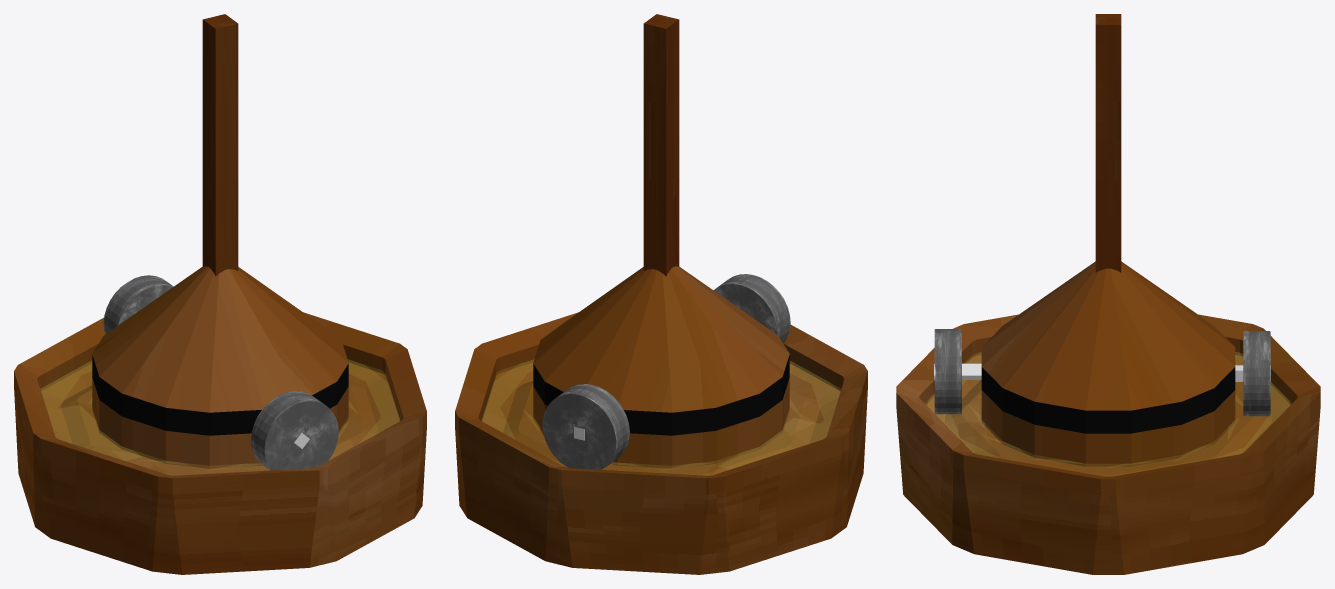
The model's file is RiceMill.glb.
3 renders of one model, left to right at view 1: azimuth 30°, elevation 25°; view 2: azimuth 150°, elevation 25°; view 3: azimuth 270°, elevation 25°, orthographic.
Visible parts, largest first — view 1: Cube, Cube.001, Cylinder, Plane.002, Cube.002; view 2: Cube, Cube.001, Cube.002, Plane.002, Cylinder; view 3: Cube, Cube.001, Cylinder, Cube.002, Plane.002.
Boxes of the visible parts, left/top/right/bottom form: Cube: left=14, top=266, right=426, bottom=574; Cube.001: left=202, top=14, right=238, bottom=276; Cylinder: left=251, top=391, right=338, bottom=470; Plane.002: left=41, top=360, right=399, bottom=474; Cube.002: left=103, top=275, right=173, bottom=334; Cube: left=455, top=266, right=867, bottom=574; Cube.001: left=643, top=14, right=679, bottom=276; Cube.002: left=542, top=384, right=629, bottom=469; Plane.002: left=482, top=360, right=840, bottom=470; Cylinder: left=713, top=274, right=790, bottom=343; Cube: left=896, top=261, right=1320, bottom=574; Cube.001: left=1095, top=14, right=1121, bottom=272; Cylinder: left=934, top=329, right=981, bottom=414; Cube.002: left=1235, top=331, right=1270, bottom=416; Plane.002: left=927, top=352, right=1289, bottom=468.
Bounding box in the file's own units: 2.48 × 3.02 × 2.48.
Materials: 5 (3 with a texture image).
